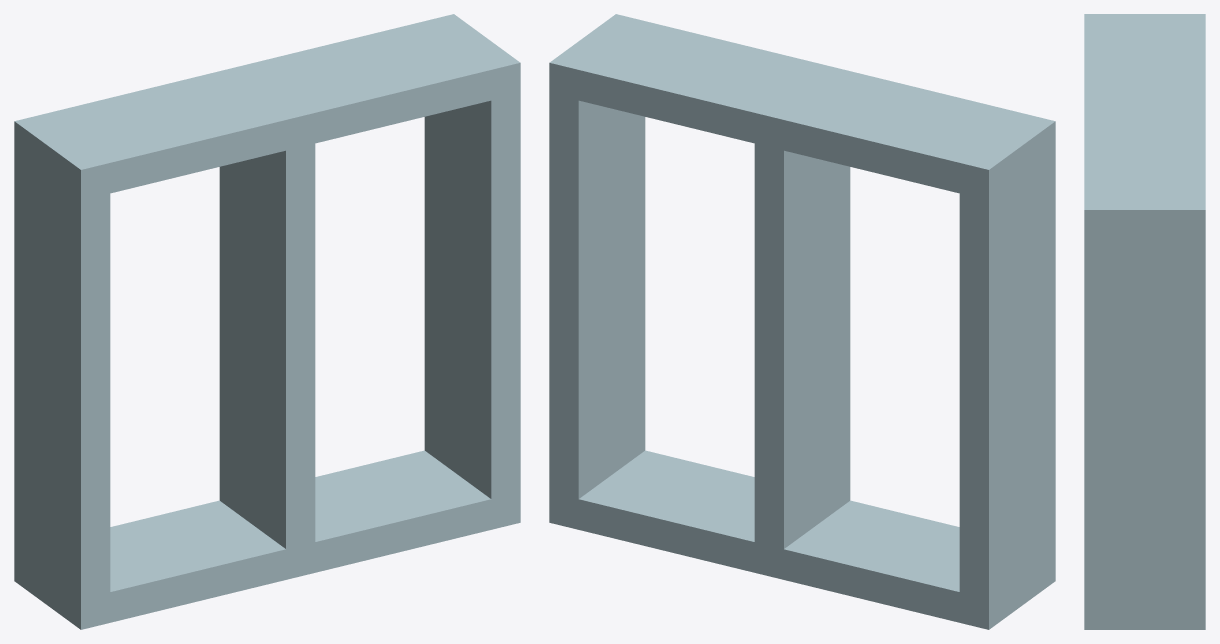
File: window-03.glb
The picture shows the model from 3 angles, left to right: view 1: azimuth 30°, elevation 25°; view 2: azimuth 150°, elevation 25°; view 3: azimuth 270°, elevation 25°; orthographic projection. The views are drawn at different scales.
Parts seen in each view (by area): view 1: Box001(min30); view 2: Box001(min30); view 3: Box001(min30).
Part boxes in pixels (x1=…): Box001(min30): x1=14, y1=14, x2=520, y2=629; Box001(min30): x1=549, y1=14, x2=1055, y2=629; Box001(min30): x1=1084, y1=14, x2=1205, y2=629.
Bounding box in the file's own units: 0.762 × 0.762 × 0.2.
